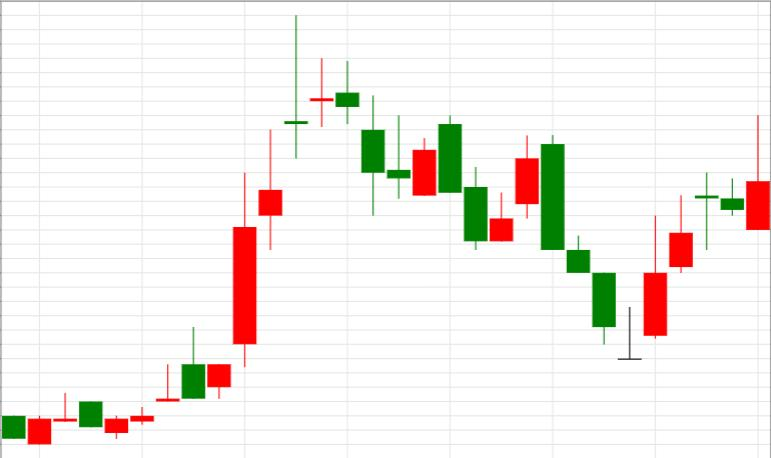morning_star_rise: (541, 134, 667, 361)
